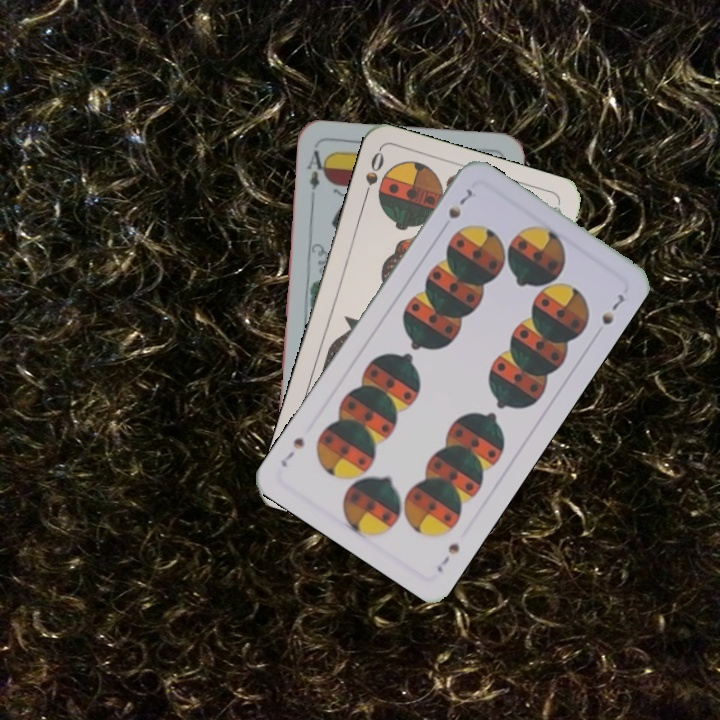EA: (302, 146, 330, 192)
S7: (444, 184, 475, 222), (432, 539, 462, 576)
SO: (359, 147, 387, 205)
